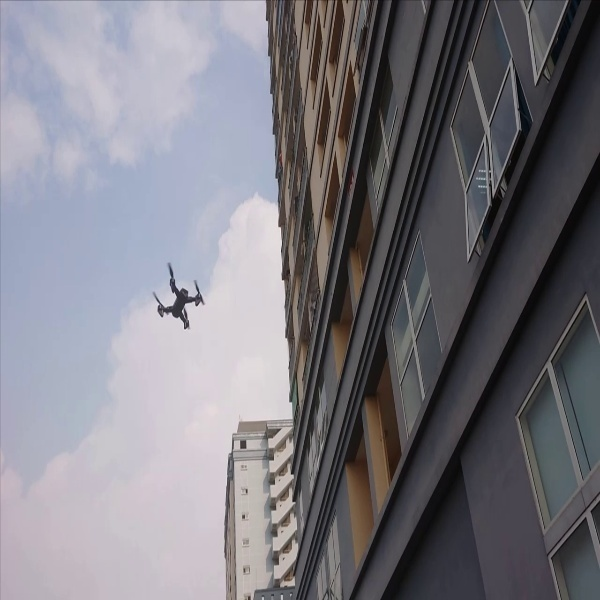drone: (138, 249, 213, 331)
